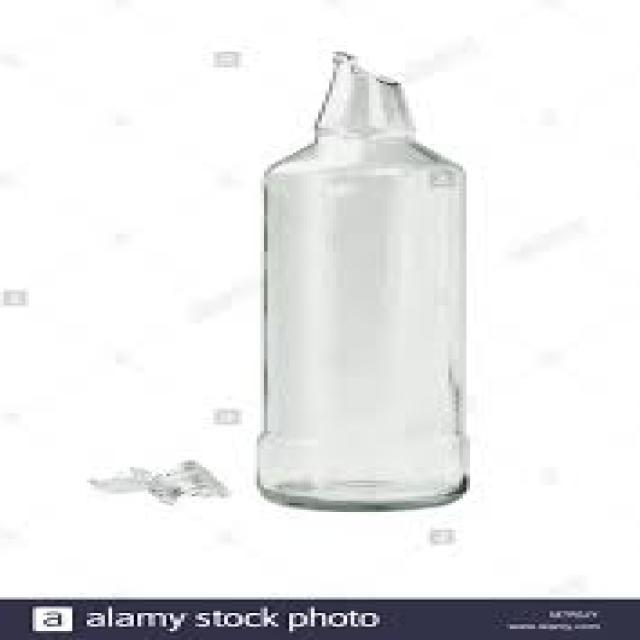Glass: (261, 51, 468, 509)
